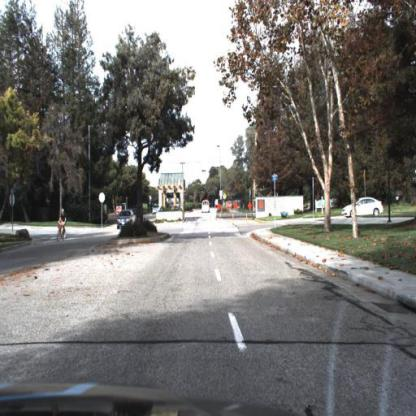biker: (52, 207, 70, 243), (57, 209, 69, 241)
car: (339, 195, 385, 220), (340, 196, 386, 220), (116, 206, 138, 229), (118, 209, 136, 231), (200, 200, 212, 216), (202, 200, 212, 217), (152, 202, 161, 217)
